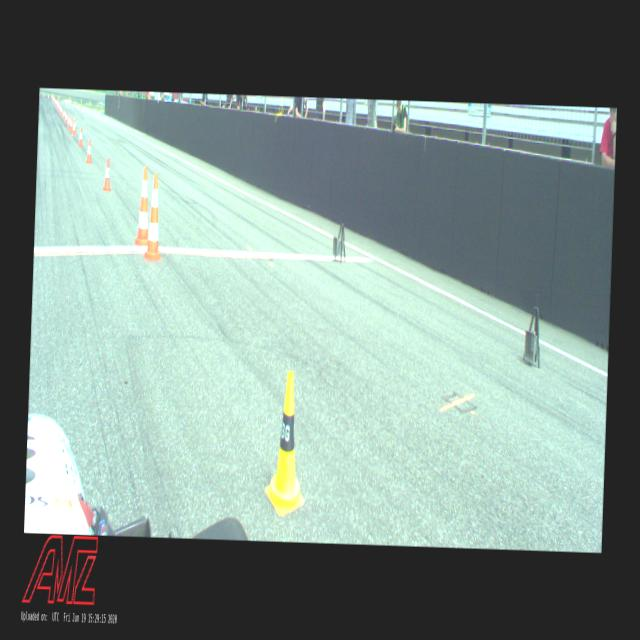large_orange_cone: (142, 172, 166, 262), (134, 166, 150, 246)
orange_cone: (102, 158, 112, 191), (86, 138, 92, 164), (78, 127, 84, 147), (71, 120, 76, 136), (68, 117, 72, 131), (67, 114, 70, 128), (62, 108, 65, 120), (74, 118, 76, 132), (65, 112, 67, 123), (60, 106, 61, 116)
yellow_cone: (264, 370, 308, 516)
